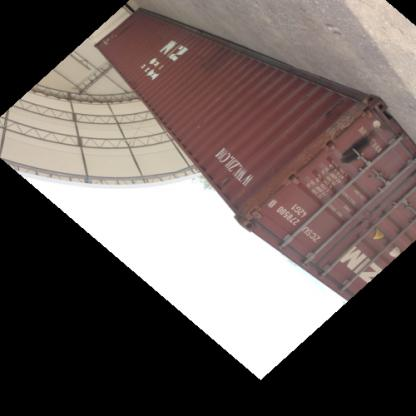Damage: (336, 132, 382, 172), (185, 46, 227, 82), (324, 104, 358, 136), (110, 26, 132, 44), (213, 176, 235, 192)
